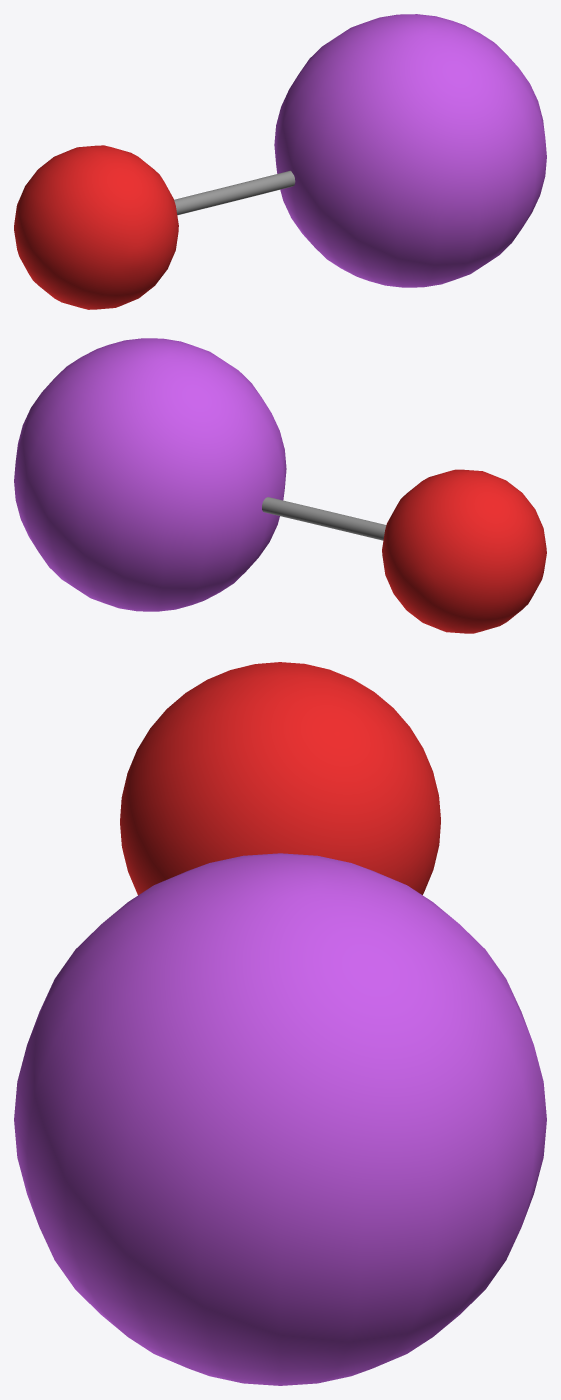
File: SiO.fbx
3 renders of one model, top to bottom at view 1: azimuth 30°, elevation 25°; view 2: azimuth 150°, elevation 25°; view 3: azimuth 270°, elevation 25°, orthographic. The views are drawn at different scales.
Visible parts, largest first — view 1: SiO; view 2: SiO; view 3: SiO.
Part boxes in pixels (x1,y1,x2,y2): SiO: [14, 14, 546, 309]; SiO: [14, 338, 546, 633]; SiO: [14, 662, 546, 1385].
Bounding box in the file's own units: 6.52 × 3.07 × 3.07.
